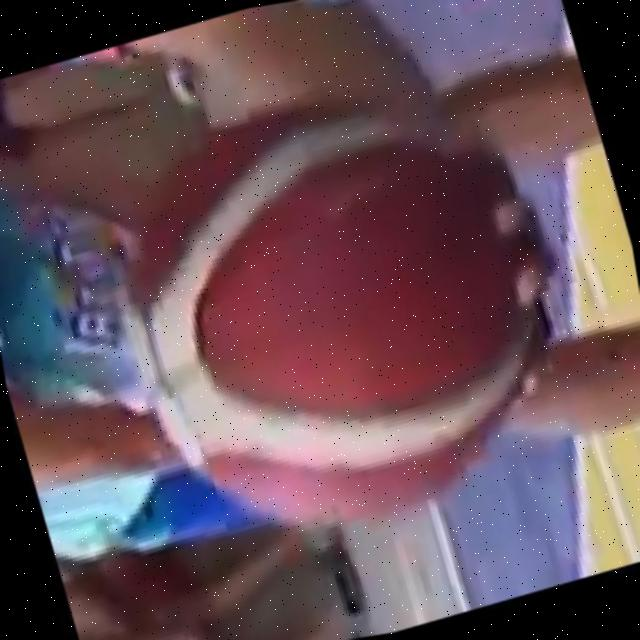ball: (62, 19, 635, 602)
